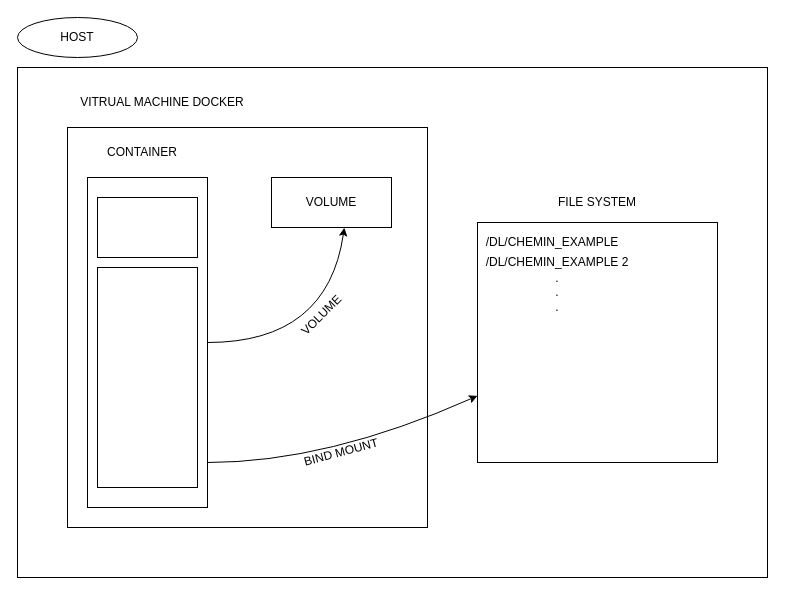
Some shapes in this 785 by 595 pixel diagram are drawn without their labels. The shapes that lost their labels are listed below. From the top down, each one's centre as x and y in pixels, then its label:
the point at 147,227: LIB
the point at 147,377: APP
